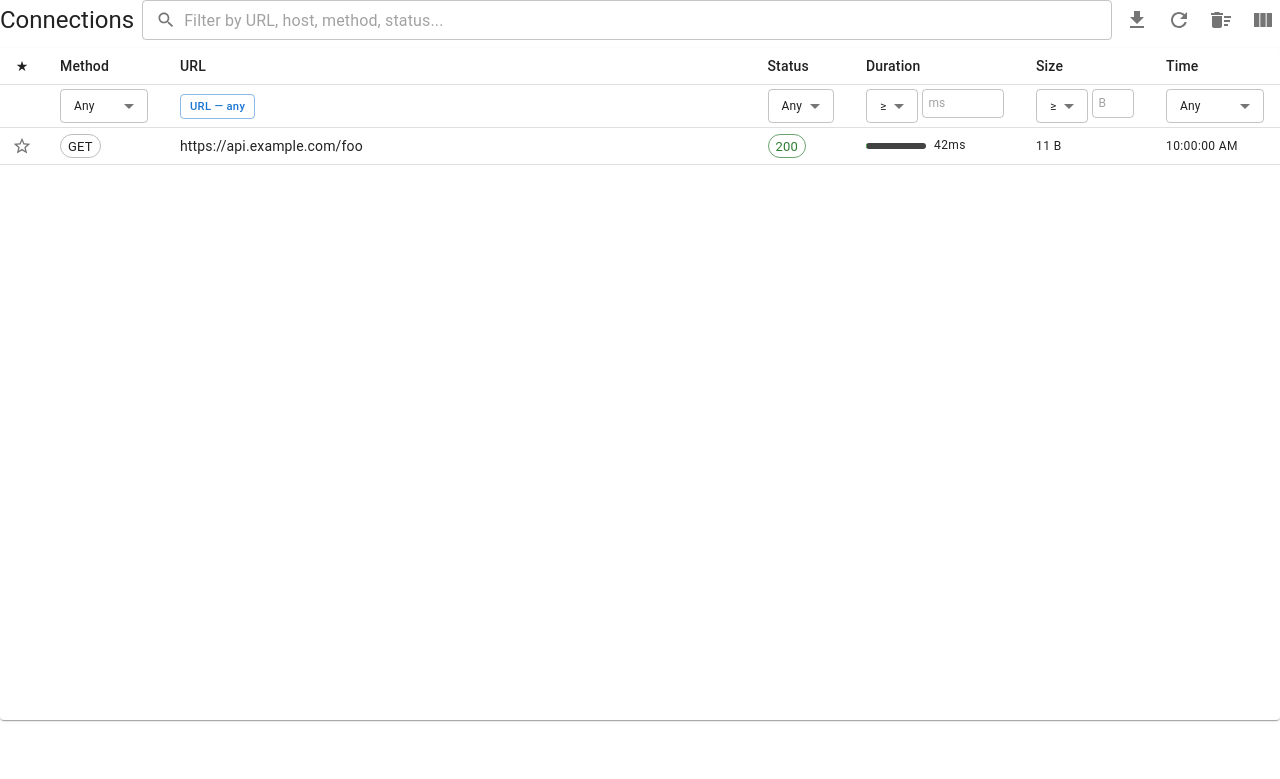
ConnectionsPage — formatters › pretty-prints XML when Format is clicked on an xml body
Click the text "https://api.example.com/foo" at (458, 147), box x1=164 y1=128 x2=752 y2=165
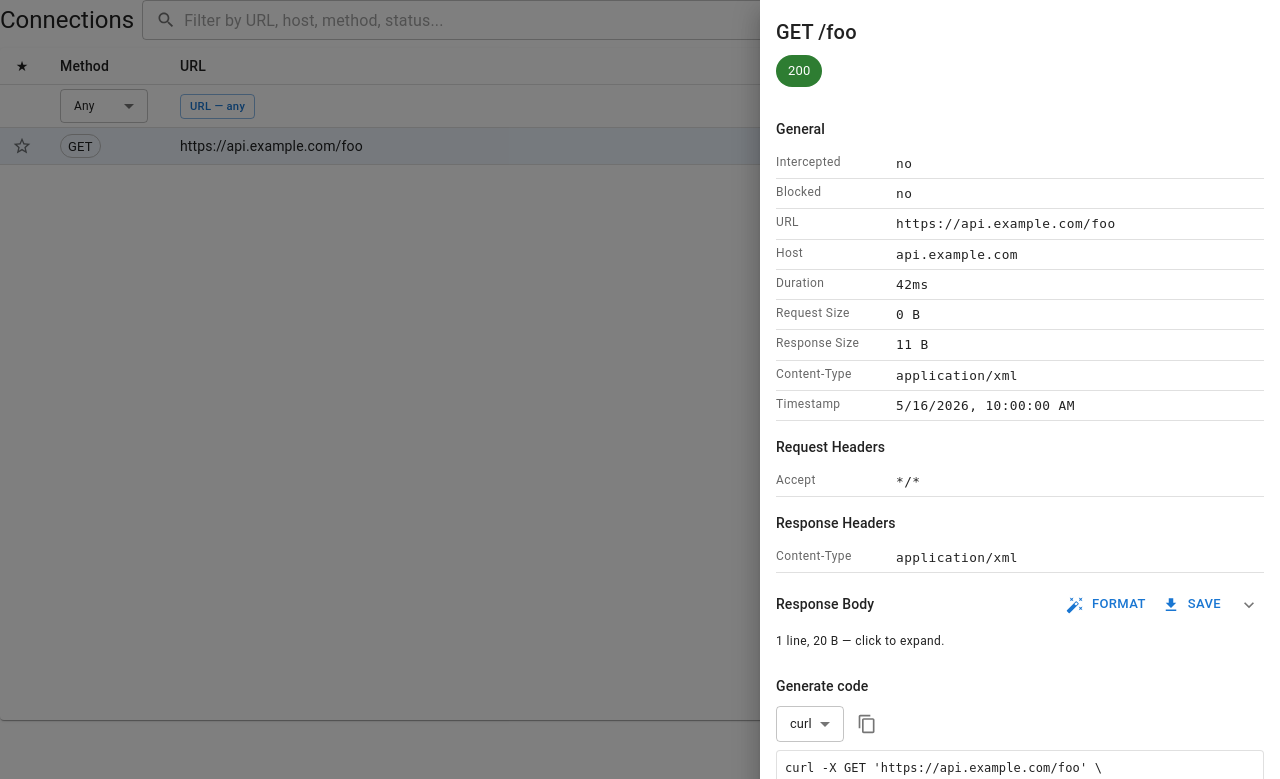
Click the button with test id "response-body-format" at (1107, 605), box x1=1063 y1=590 x2=1151 y2=620
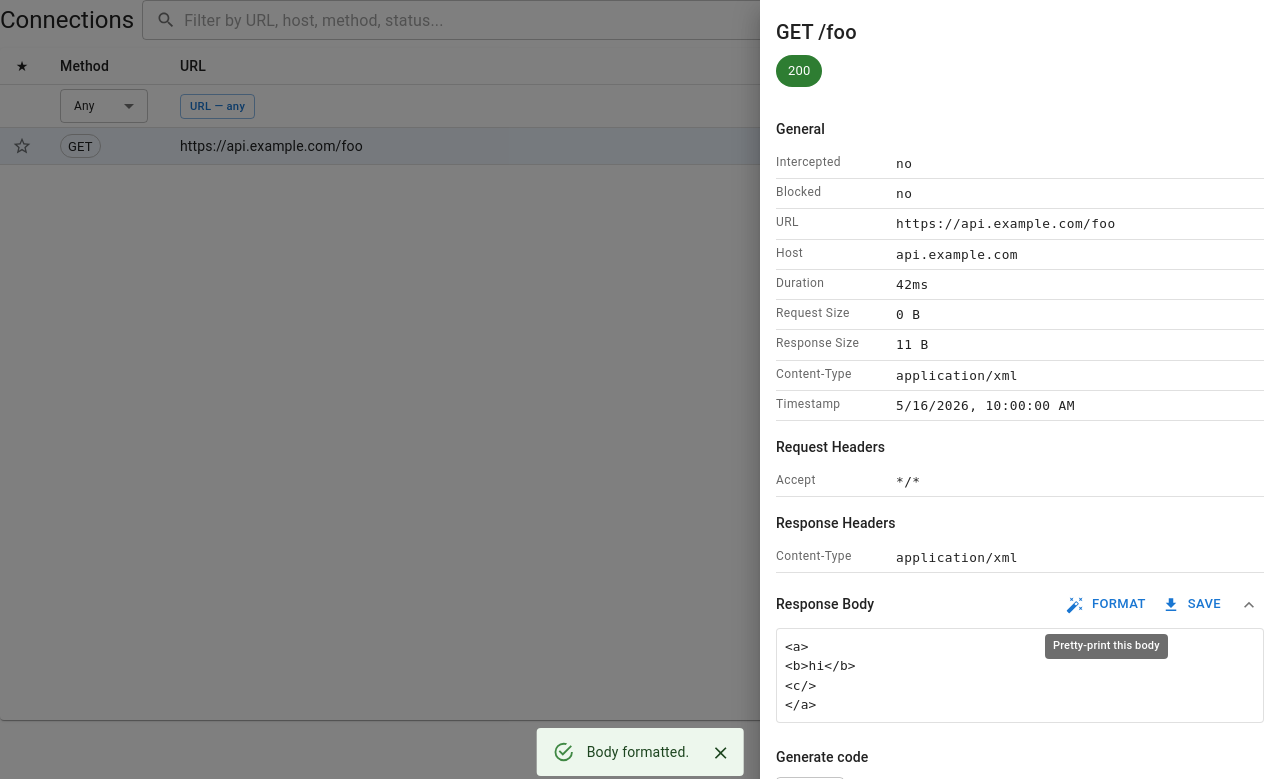
Expected: the text with test id "body-preview-text" is empty, x1=785 y1=639 x2=856 y2=712
Expected: the text "Body formatted." is shown, x1=587 y1=744 x2=689 y2=760
